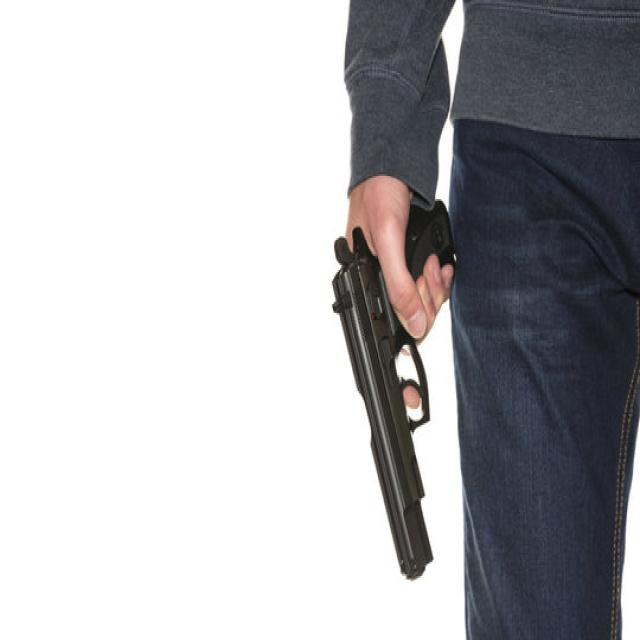HandGun: (332, 201, 456, 581)
